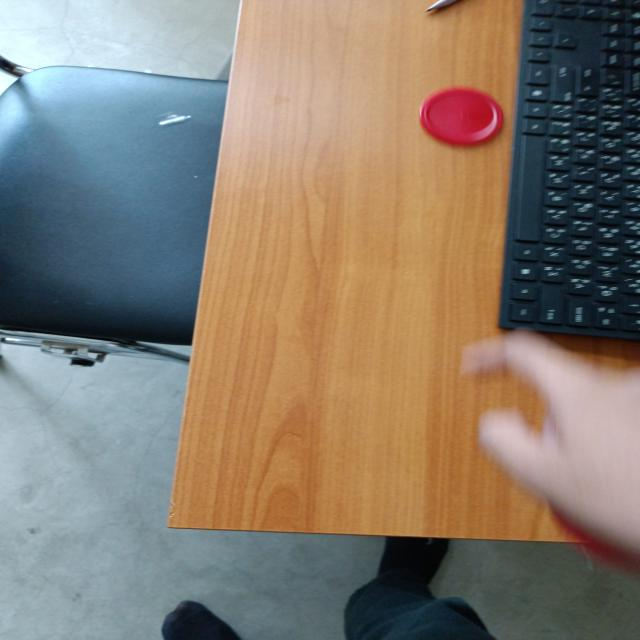chip: (418, 84, 506, 148)
